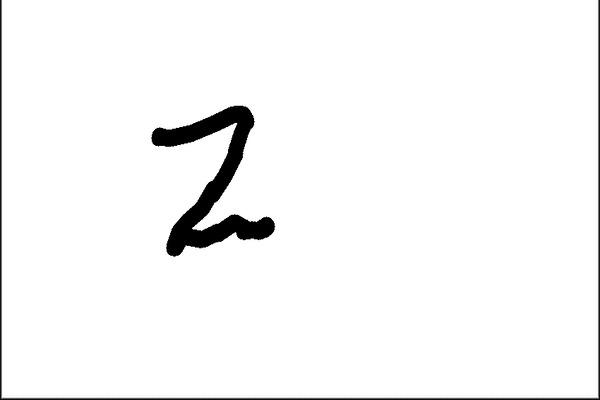Z: (140, 99, 288, 266)
